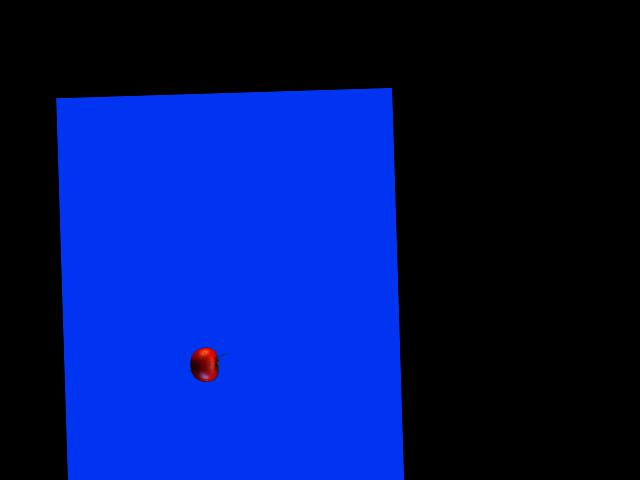tomato: (189, 347, 218, 382)
